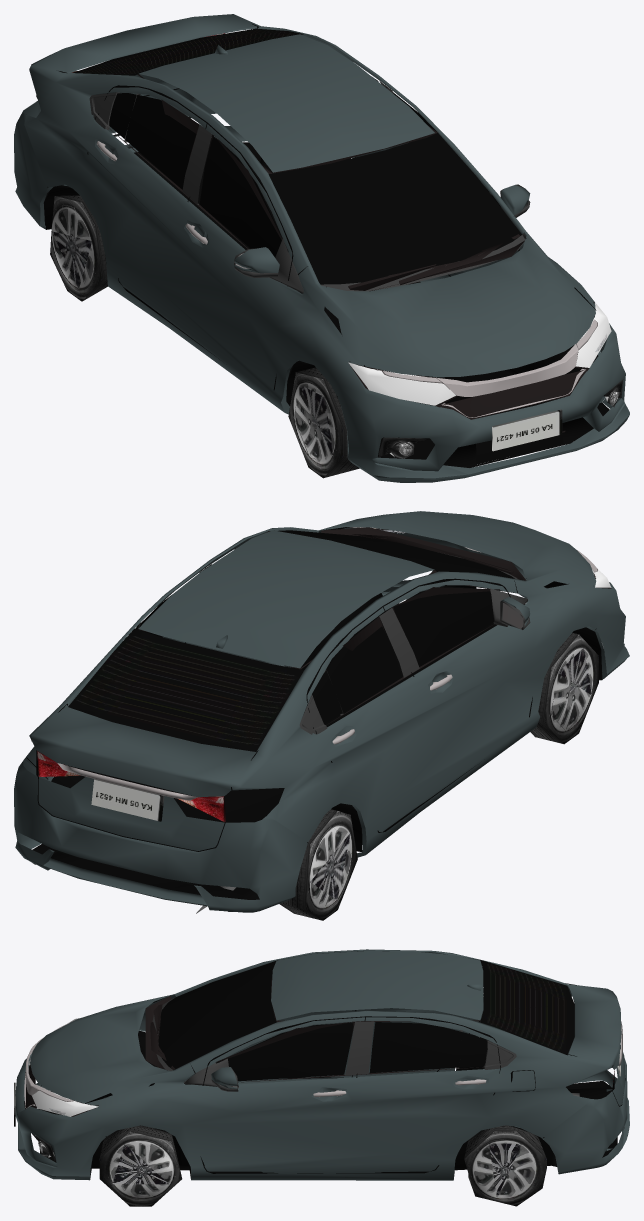
Rendered from city_lod.glb.
3 views of the same model, one above another, from view 1: azimuth 30°, elevation 25°; view 2: azimuth 150°, elevation 25°; view 3: azimuth 270°, elevation 25° (orthographic). The views are drawn at different scales.
Visible parts, largest first — view 1: frontLamp_Body_0, kaca_Kaca_0, tyre_ban_Material_0, frontLamp_Black80_lambert_0, bodyUnder_Black100_0, spion_Black80_Blin_0, frontLamp_Chrome_0, frontLampGlass_TransLampu_0, frontLamp_Lamp_1Material_0, bodyList_bodyList1_0; view 2: frontLamp_Body_0, kaca_Kaca_0, tyre_ban_Material_0, bodyUnder_Black100_0, frontLamp_Black80_lambert_0, frontLamp_Lamp_1Material_0, spion_Black80_Blin_0, frontLamp_Chrome_0, bodyList_bodyList1_0; view 3: frontLamp_Body_0, kaca_Kaca_0, tyre_ban_Material_0, spion_Black80_Blin_0, frontLamp_Black80_lambert_0, bodyUnder_Black100_0, bodyList_bodyList1_0, frontLamp_Chrome_0, frontLampGlass_TransLampu_0, frontLamp_Lamp_1Material_0.
Part boxes in pixels (x1,y1,x2,y2): frontLamp_Body_0: (14,14,629,482); kaca_Kaca_0: (73,28,521,284); tyre_ban_Material_0: (50,195,359,478); frontLamp_Black80_lambert_0: (107,73,611,442); bodyUnder_Black100_0: (43,138,609,464); spion_Black80_Blin_0: (89,81,530,293); frontLamp_Chrome_0: (97,141,597,417); frontLampGlass_TransLampu_0: (348,302,611,405); frontLamp_Lamp_1Material_0: (72,33,623,458); bodyList_bodyList1_0: (31,24,596,467); frontLamp_Body_0: (14,511,629,912); kaca_Kaca_0: (68,530,514,751); tyre_ban_Material_0: (279,633,598,920); bodyUnder_Black100_0: (32,593,605,911); frontLamp_Black80_lambert_0: (138,527,611,725); frontLamp_Lamp_1Material_0: (37,527,404,885); spion_Black80_Blin_0: (136,546,530,734); frontLamp_Chrome_0: (57,527,597,800); bodyList_bodyList1_0: (26,527,596,851); frontLamp_Body_0: (15,949,629,1180); kaca_Kaca_0: (158,960,574,1081); tyre_ban_Material_0: (99,1125,546,1206); spion_Black80_Blin_0: (152,998,516,1091); frontLamp_Black80_lambert_0: (25,960,483,1116); bodyUnder_Black100_0: (39,1031,617,1179); bodyList_bodyList1_0: (24,983,625,1173); frontLamp_Chrome_0: (24,993,622,1108); frontLampGlass_TransLampu_0: (31,1018,98,1116); frontLamp_Lamp_1Material_0: (14,1048,624,1162).
Size of the model in its own units: 41.93 by 33.13 by 102.
11 materials, 3 textured.
